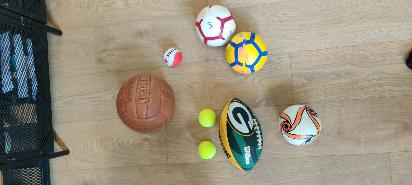Football mini: (223, 29, 269, 74), (276, 102, 322, 147), (194, 3, 238, 48)
Football size 5: (115, 72, 175, 131)
Honkball: (161, 46, 181, 67)
Rugby: (218, 97, 264, 171)
tennis: (196, 139, 216, 159), (198, 108, 216, 127)
